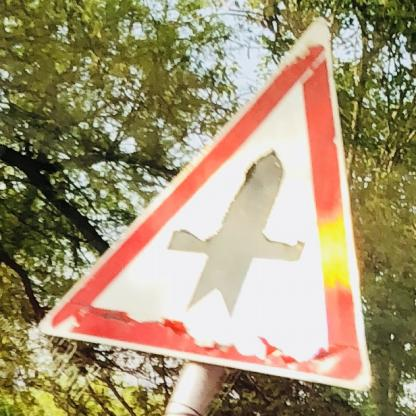Cross Roads: (30, 15, 374, 391)
